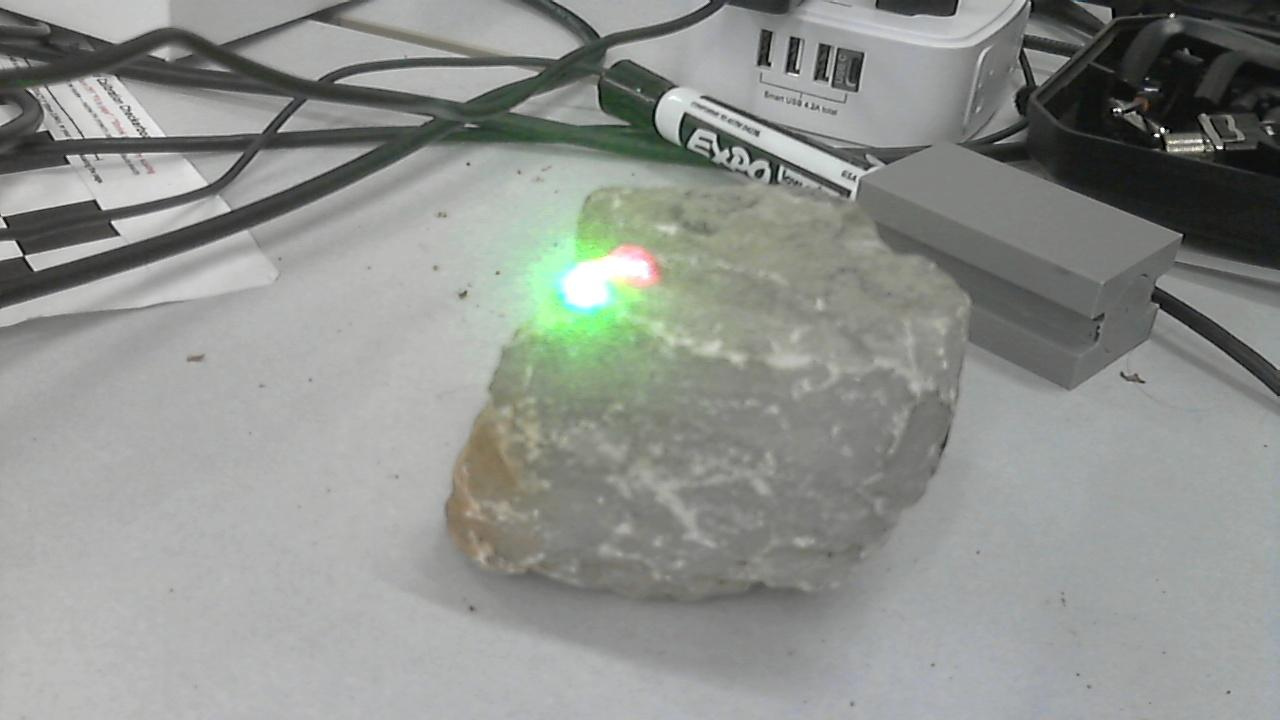Object rock - Material stone - Pdfname as35as4adsa: (545, 240, 664, 334)
